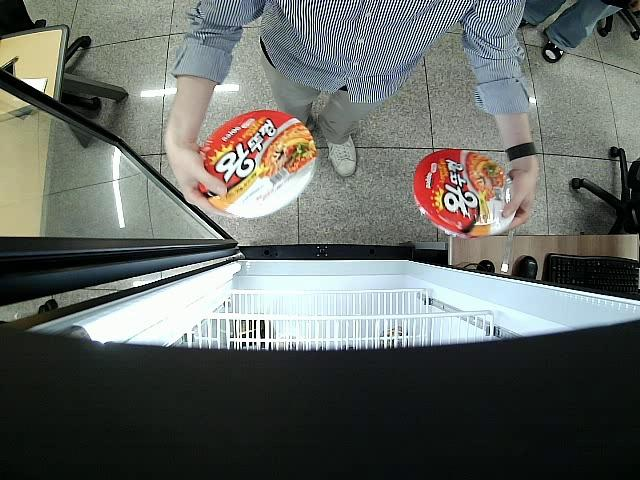00_hand: (166, 144, 241, 222), (499, 171, 539, 233)
10_wangTtukkeong: (199, 109, 316, 218), (409, 150, 514, 236)
